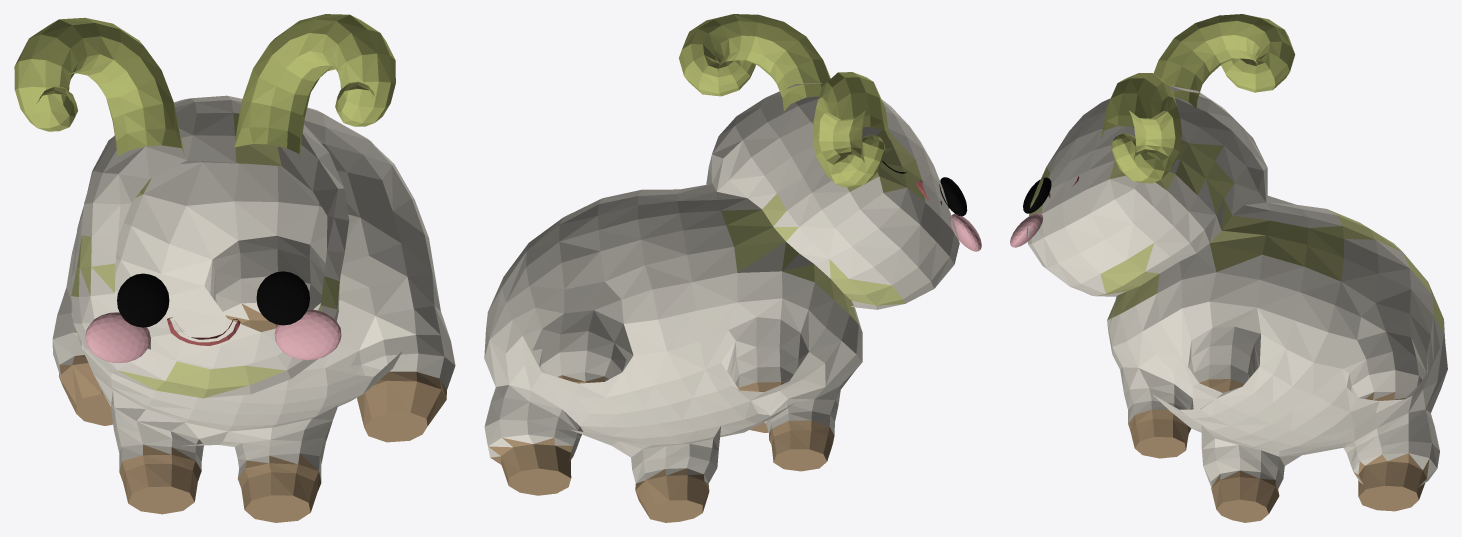
File: yagi.glb
3 views of the same model, side by side, from view 1: azimuth 30°, elevation 25°; view 2: azimuth 150°, elevation 25°; view 3: azimuth 270°, elevation 25° (orthographic). The views are drawn at different scales.
Visible parts, largest first — view 1: geometry_0; view 2: geometry_0; view 3: geometry_0.
Boxes of the visible parts, x1,y1,x2,y2 form: geometry_0: (14, 14, 455, 522); geometry_0: (484, 14, 981, 522); geometry_0: (1010, 14, 1447, 522).
Bounding box in the file's own units: 0.1493 × 0.1543 × 0.1625.
